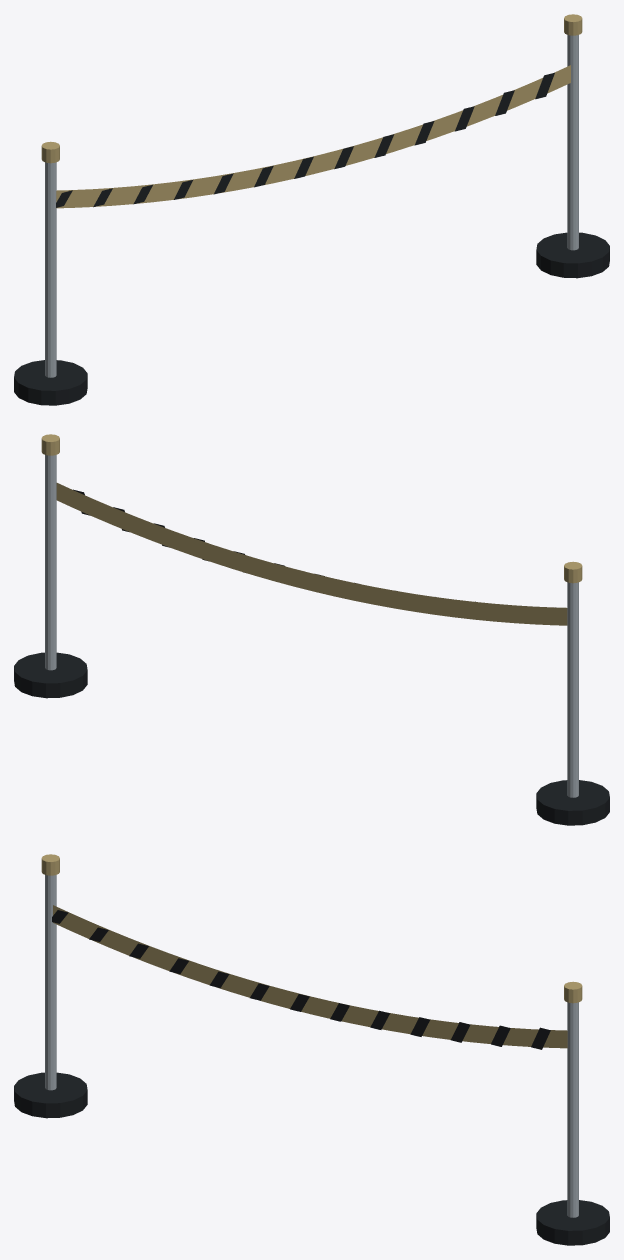
The model's file is warning_tape_posts.glb.
3 views of the same model, one above another, from view 1: azimuth 30°, elevation 25°; view 2: azimuth 150°, elevation 25°; view 3: azimuth 330°, elevation 25° (orthographic).
Parts seen in each view (by area): view 1: warning_tape_posts__m7_dark_polymer, warning_tape_posts__m7_hazard_yellow, warning_tape_posts__m7_galvanised_steel; view 2: warning_tape_posts__m7_hazard_yellow, warning_tape_posts__m7_dark_polymer, warning_tape_posts__m7_galvanised_steel; view 3: warning_tape_posts__m7_dark_polymer, warning_tape_posts__m7_hazard_yellow, warning_tape_posts__m7_galvanised_steel.
Part boxes in pixels (x1,y1,x2,y2): warning_tape_posts__m7_dark_polymer: [14, 72, 609, 405]; warning_tape_posts__m7_hazard_yellow: [41, 14, 582, 208]; warning_tape_posts__m7_galvanised_steel: [45, 35, 578, 377]; warning_tape_posts__m7_hazard_yellow: [41, 434, 582, 625]; warning_tape_posts__m7_dark_polymer: [14, 489, 609, 825]; warning_tape_posts__m7_galvanised_steel: [45, 455, 578, 797]; warning_tape_posts__m7_dark_polymer: [14, 910, 609, 1245]; warning_tape_posts__m7_hazard_yellow: [41, 854, 582, 1048]; warning_tape_posts__m7_galvanised_steel: [45, 875, 578, 1217].
Size of the model in its own units: 2.92 by 1.16 by 0.3201.
